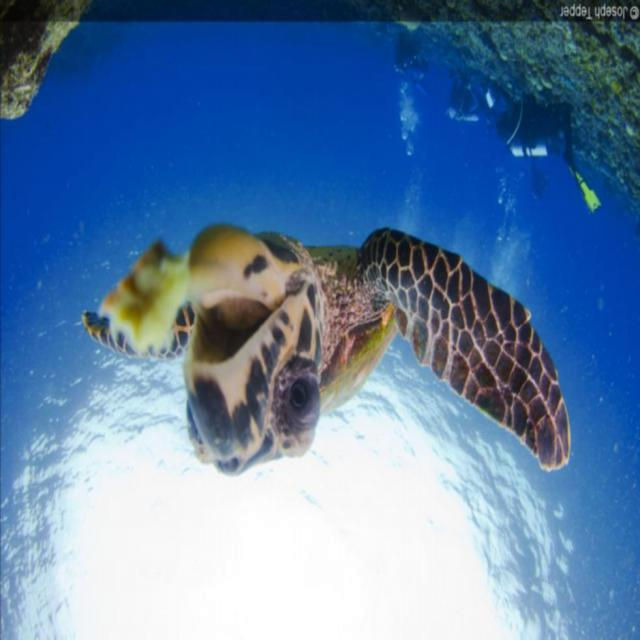Sea turtle: (81, 224, 574, 476)
